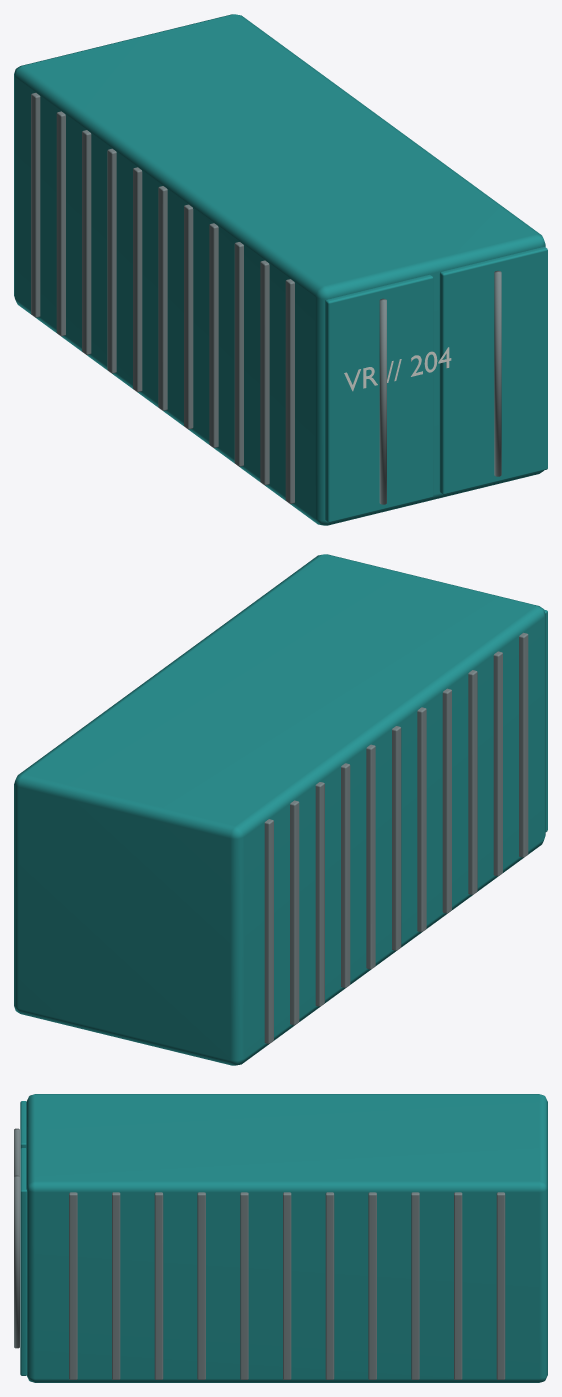
The model's file is container_teal.glb.
3 renders of one model, top to bottom at view 1: azimuth 30°, elevation 25°; view 2: azimuth 150°, elevation 25°; view 3: azimuth 270°, elevation 25°, orthographic. The views are drawn at different scales.
Visible parts, largest first — view 1: container_teal; view 2: container_teal; view 3: container_teal.
Part boxes in pixels (x1,y1,x2,y2): container_teal: [14, 14, 547, 525]; container_teal: [14, 554, 547, 1065]; container_teal: [14, 1094, 547, 1382].
Size of the model in its own units: 2.71 by 2.6 by 6.25.
